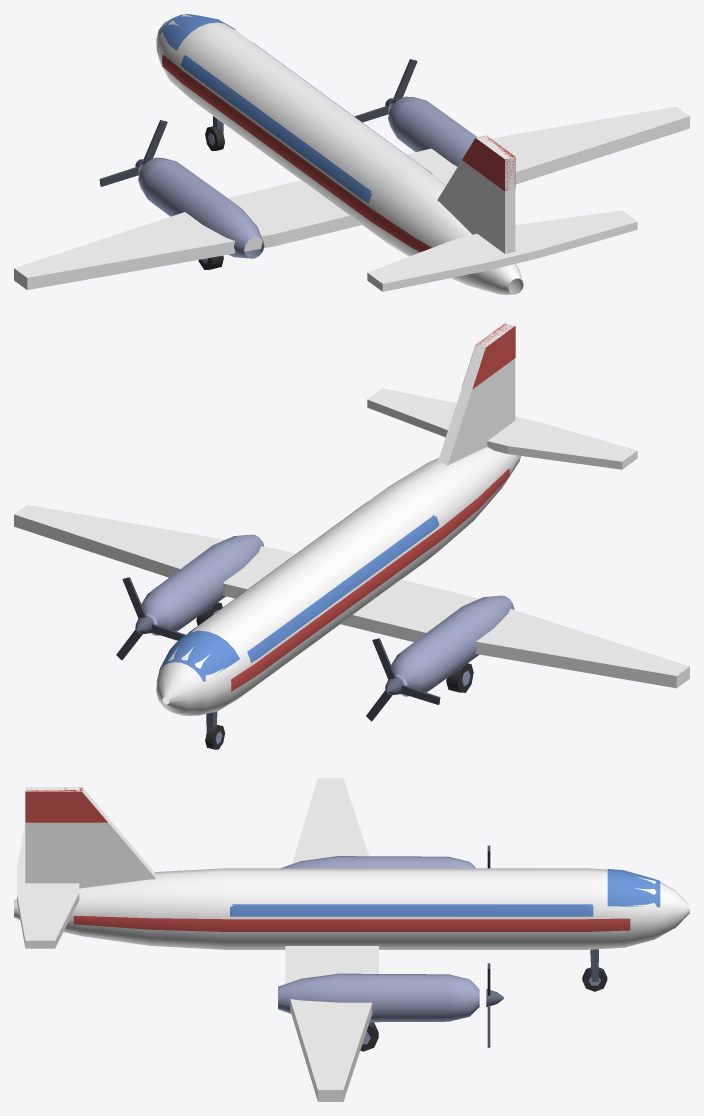
File: avion-regional.glb
3 views of the same model, one above another, from view 1: azimuth 30°, elevation 25°; view 2: azimuth 150°, elevation 25°; view 3: azimuth 270°, elevation 25° (orthographic). The views are drawn at different scales.
Parts seen in each view (by area): view 1: fuselage, aile, stabilisateur, nacelle-gauche, derive, filet-gauche, nacelle-droite, hublots-gauche, derive-livree, verriere; view 2: fuselage, aile, stabilisateur, nacelle-gauche, nacelle-droite, derive, filet-gauche, hublots-gauche, verriere, derive-livree; view 3: fuselage, aile, derive, nacelle-droite, filet-droite, hublots-droite, stabilisateur, derive-livree, nacelle-gauche, verriere.
Boxes of the visible parts, <box> form: fuselage: <box>156,14,523,294</box>; aile: <box>14,106,689,289</box>; stabilisateur: <box>367,210,637,291</box>; nacelle-gauche: <box>138,157,264,258</box>; derive: <box>437,135,515,253</box>; filet-gauche: <box>162,54,431,252</box>; nacelle-droite: <box>388,96,477,166</box>; hublots-gauche: <box>180,55,371,203</box>; derive-livree: <box>462,135,515,191</box>; verriere: <box>159,14,235,50</box>; fuselage: <box>156,447,520,715</box>; aile: <box>14,504,689,688</box>; stabilisateur: <box>367,388,637,469</box>; nacelle-gauche: <box>391,595,514,696</box>; nacelle-droite: <box>141,534,263,635</box>; derive: <box>437,323,515,465</box>; filet-gauche: <box>231,468,509,691</box>; hublots-gauche: <box>247,514,439,662</box>; verriere: <box>159,630,239,681</box>; derive-livree: <box>462,323,515,389</box>; fuselage: <box>14,868,689,949</box>; aile: <box>285,778,378,1101</box>; derive: <box>25,787,155,888</box>; nacelle-droite: <box>278,973,479,1022</box>; filet-droite: <box>73,915,630,931</box>; hublots-droite: <box>230,904,593,916</box>; stabilisateur: <box>17,822,79,948</box>; derive-livree: <box>25,787,107,822</box>; nacelle-gauche: <box>281,856,475,868</box>; verriere: <box>607,869,660,907</box>.
Size of the model in its own units: 1.3 by 0.39 by 1.19.
